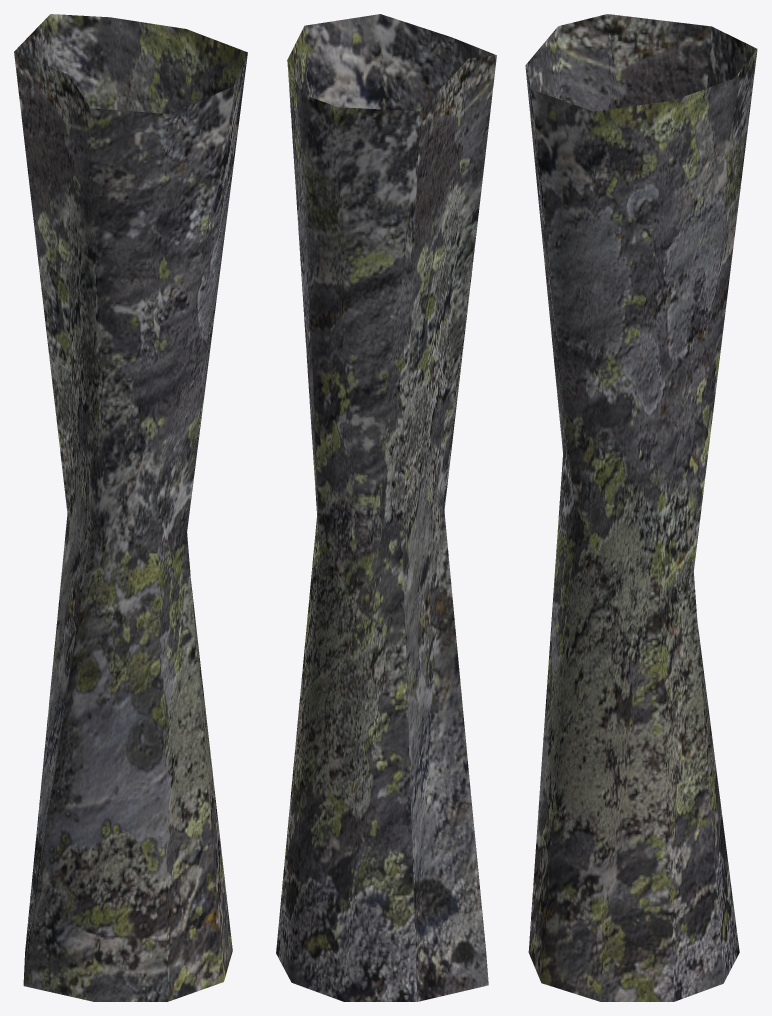
Rendered from destroyable_pillar_rock.FBX.
3 renders of one model, left to right at view 1: azimuth 30°, elevation 25°; view 2: azimuth 150°, elevation 25°; view 3: azimuth 270°, elevation 25°, orthographic.
Visible parts, largest first — view 1: pillar; view 2: pillar; view 3: pillar.
Boxes of the visible parts, x1=… form: pillar: x1=14, y1=14, x2=247, y2=1001; pillar: x1=276, y1=14, x2=496, y2=1001; pillar: x1=525, y1=14, x2=757, y2=1001.
Size of the model in its own units: 104 by 445 by 103.
